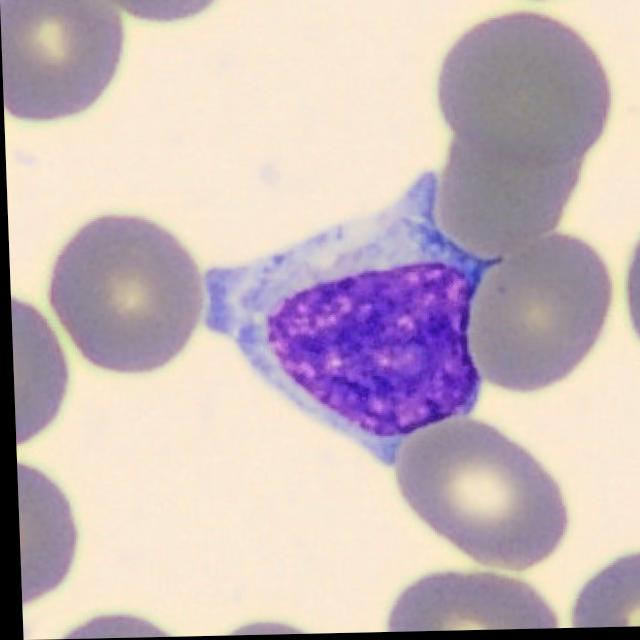Linfocito atipico: (205, 177, 485, 463)
